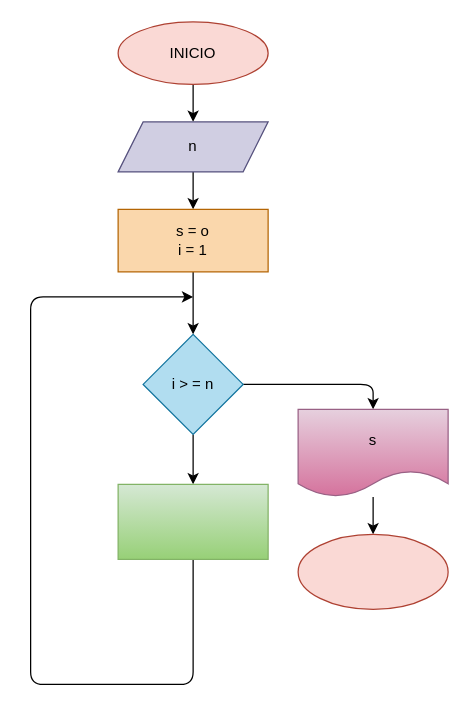
Some shapes in this 470 by 716 pixel diagram are drawn without their labels. The shapes that lost their labels are listed below. From the top down, each one's box as (x1, y1, x2, y2) in pixels, then its label:
(117, 483, 268, 559): s = s+i i = i+1
(297, 533, 448, 609): FIN
